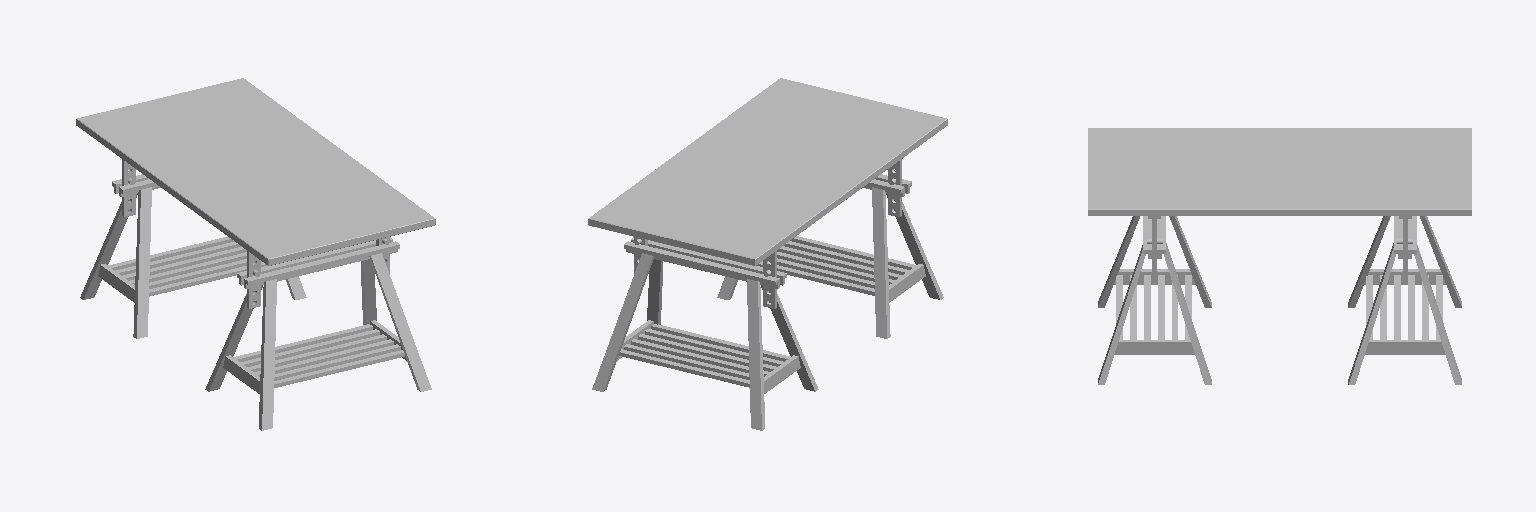
Rendered from table1.obj.
The picture shows the model from 3 angles: view 1: azimuth 30°, elevation 25°; view 2: azimuth 150°, elevation 25°; view 3: azimuth 270°, elevation 25°; orthographic projection.
Visible parts, largest first — view 1: Plane_Plane.001, Cube.005, Cube.000_Cube.005; view 2: Plane_Plane.001, Cube.000_Cube.005, Cube.005; view 3: Plane_Plane.001, Cube.000_Cube.005, Cube.005.
Part boxes in pixels (x1,y1,x2,y2): Plane_Plane.001: (76,78,435,265); Cube.005: (205,237,431,430); Cube.000_Cube.005: (80,159,306,338); Plane_Plane.001: (588,78,947,265); Cube.000_Cube.005: (592,237,818,430); Cube.005: (717,159,943,338); Plane_Plane.001: (1088,128,1471,215); Cube.000_Cube.005: (1348,216,1461,384); Cube.005: (1098,216,1211,384).
Bounding box in the file's own units: 1.2 × 1.19 × 2.36.